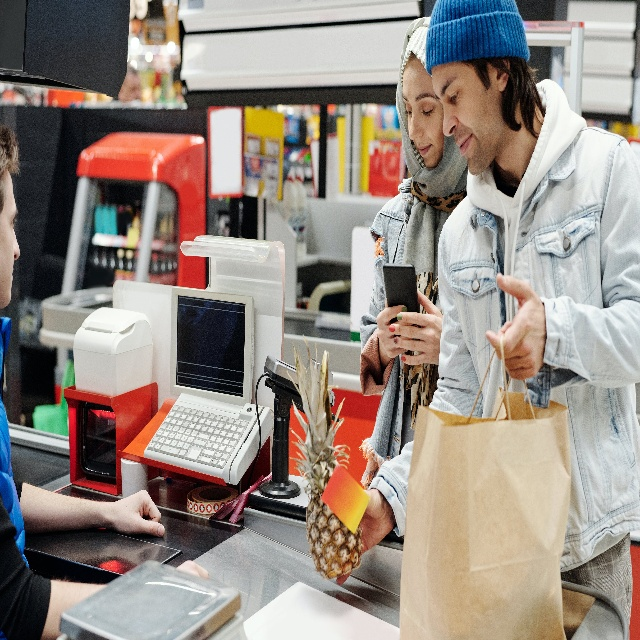Sin_guantes: (486, 272, 548, 384), (387, 291, 442, 368), (110, 487, 166, 539), (375, 296, 410, 359)
